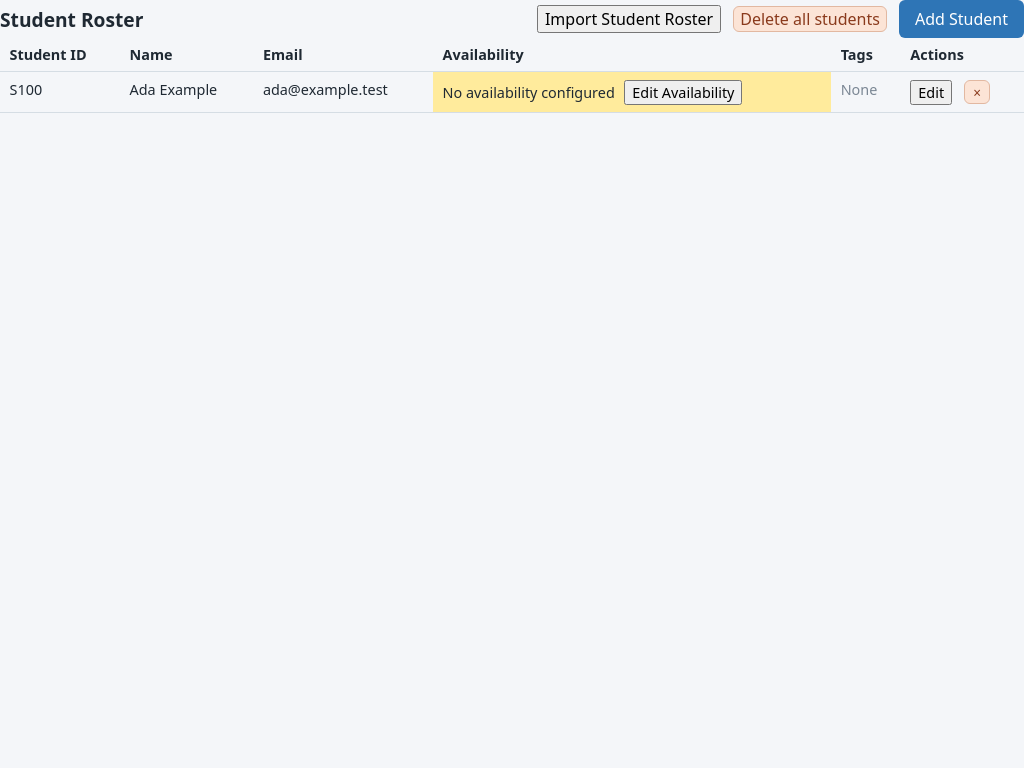
Test: Student Roster page › deletes all students only after confirmation
Click the button "Delete all students": [810, 19] box [733, 6, 887, 32]
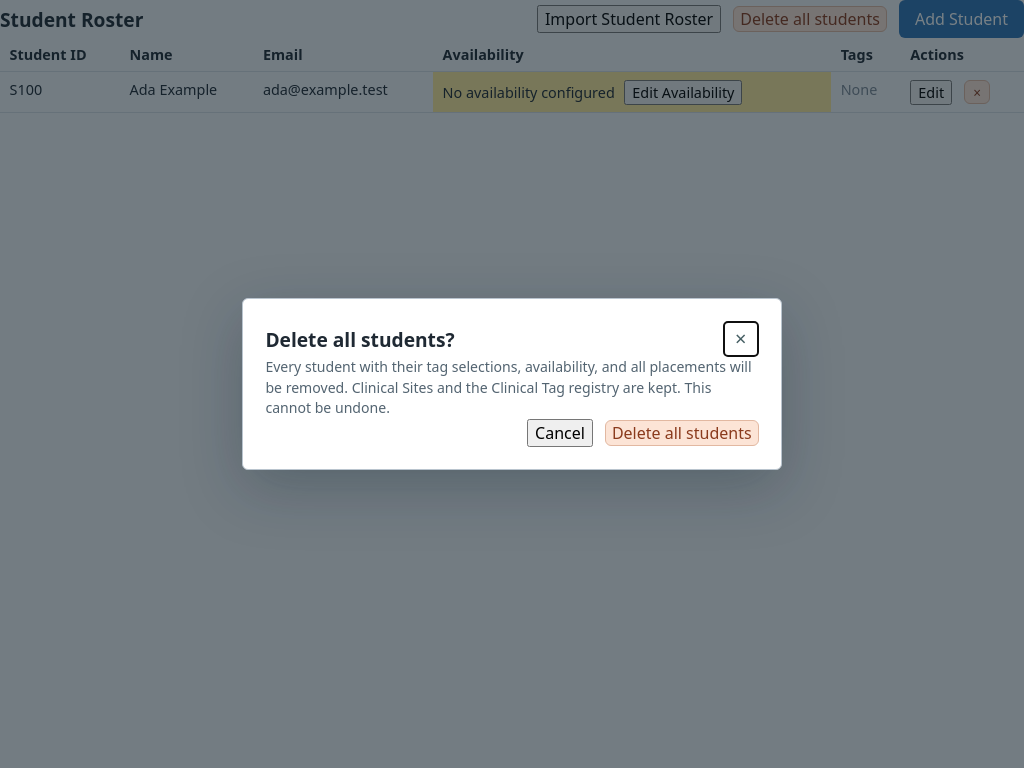
Click the button "Cancel": [560, 433] box [527, 419, 593, 447]
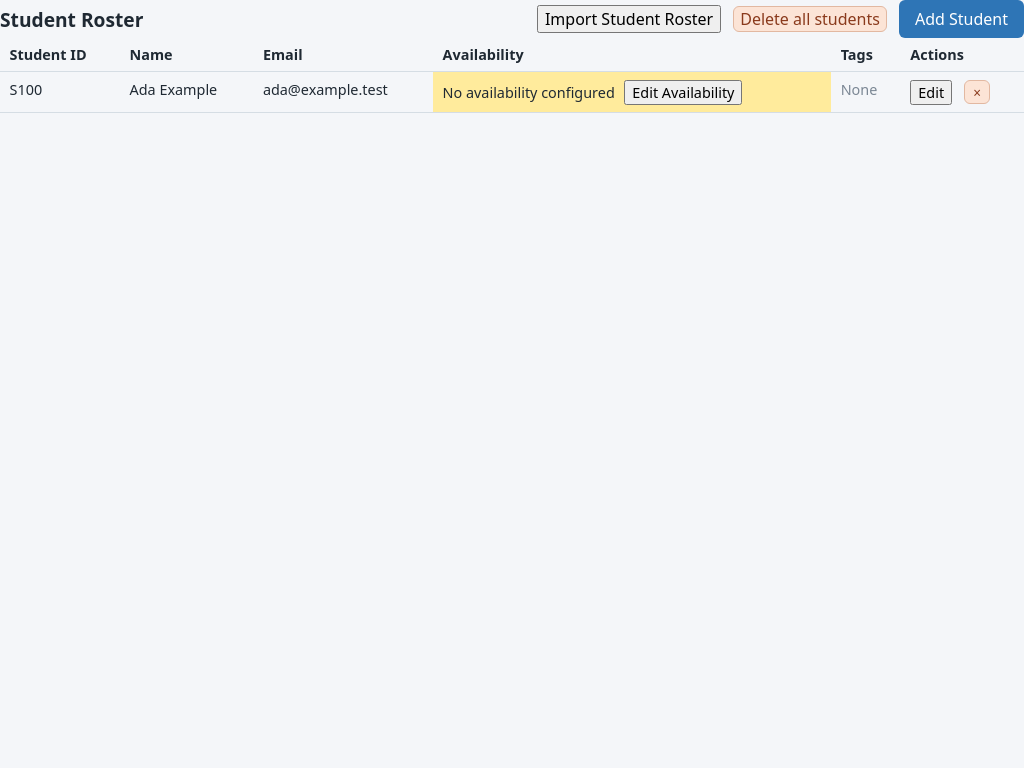
Click the button "Delete all students": [810, 19] box [733, 6, 887, 32]
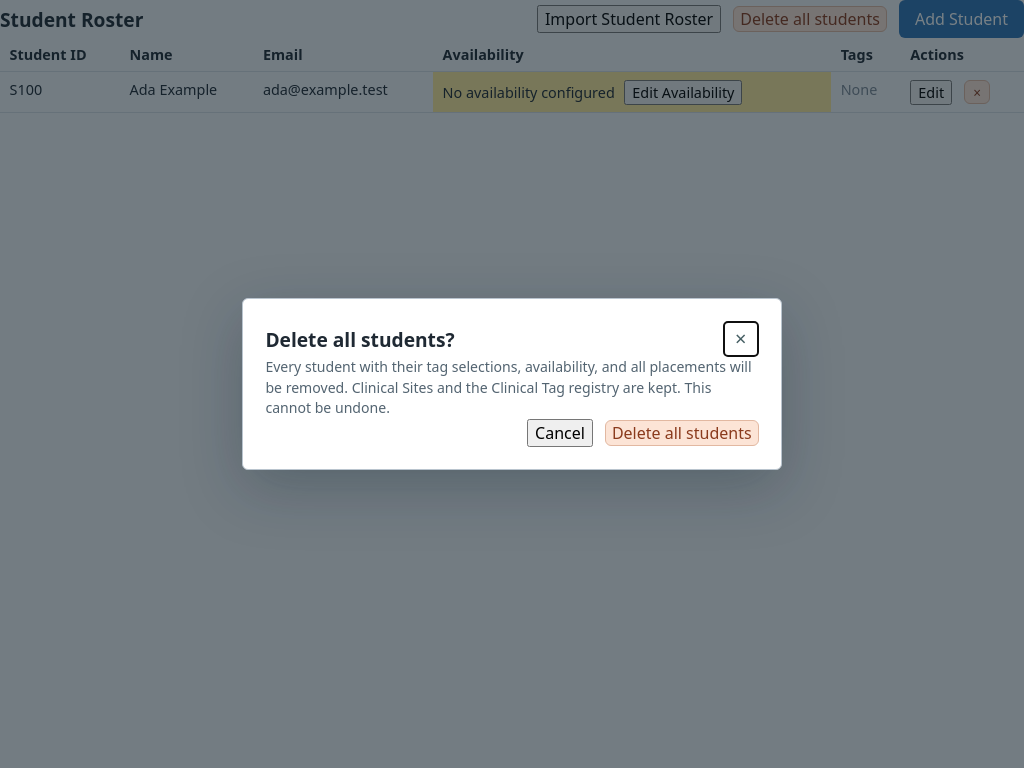
Click the button "Delete all students": [682, 433] box [605, 420, 759, 446]
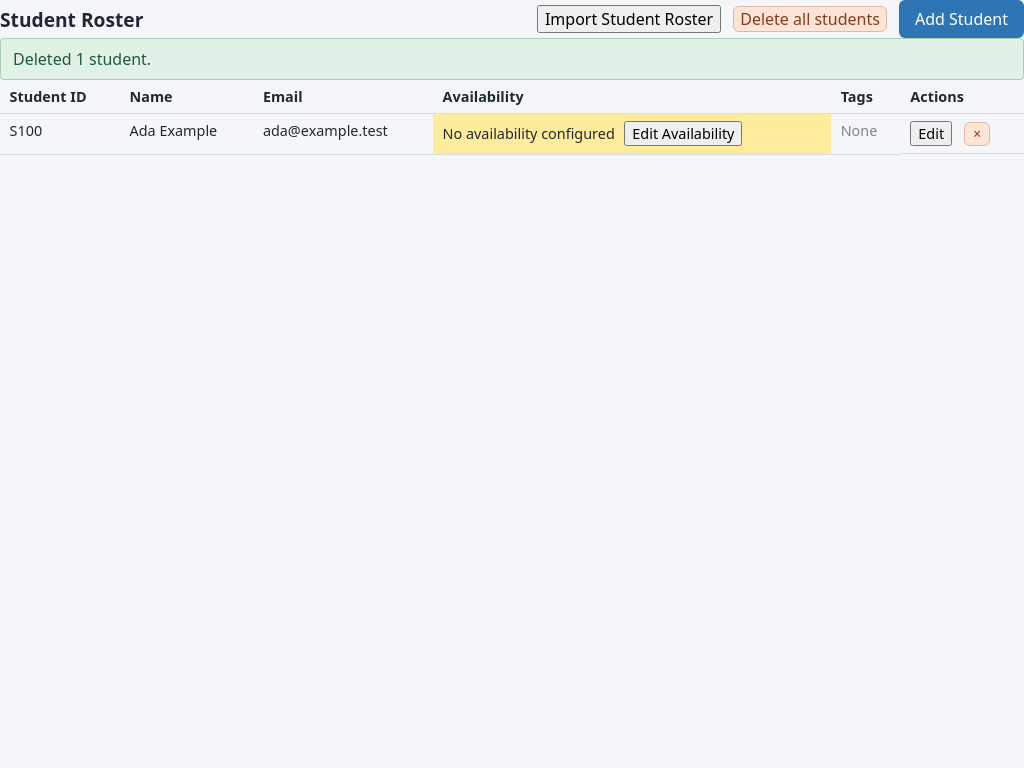
Expected: the text "Deleted 1 student." is shown, [0, 38, 1023, 80]
